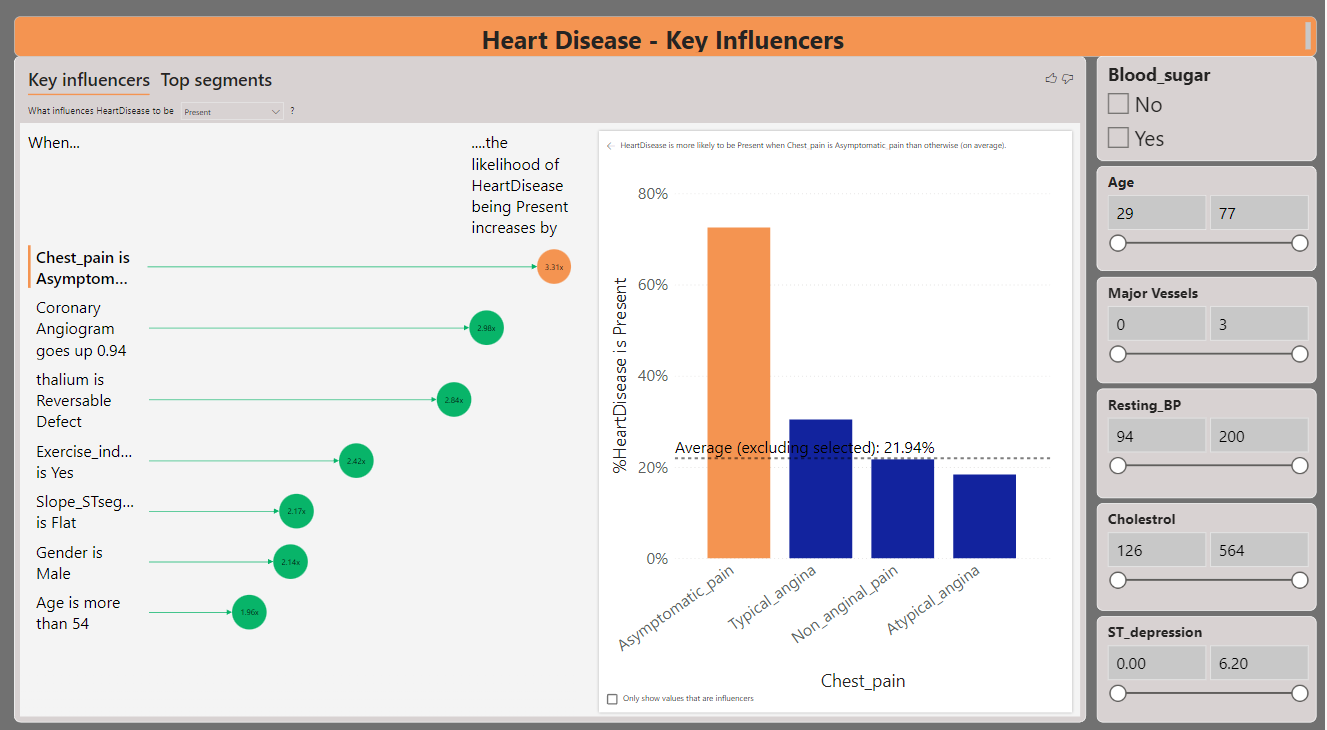

This screenshot's page, from the dashboard's own definition file:
{"tool":"powerbi","page":{"name":"Page 2","canvas":[2000,1100],"ordinal":0},"visuals":[{"type":"keyDriversVisual","fields":{"Target":["heart_disease_dataset.HeartDisease"],"ExplainBy":["heart_disease_dataset.Chest_pain","heart_disease_dataset.thalium","Sum(heart_disease_dataset.Coronary Angiogram)","heart_disease_dataset.Exercise_induces_angina","heart_disease_dataset.Slope_STsegment","heart_disease_dataset.Gender","Sum(heart_disease_dataset.Age)"]},"box":[28.1,86.6,1613.2,1002.6],"z":0},{"type":"slicer","fields":{"Values":["heart_disease_dataset.Age"]},"box":[1656.5,252.5,331.3,158.1],"z":1000},{"type":"slicer","fields":{"Values":["heart_disease_dataset.Coronary Angiogram"]},"box":[1656.5,418.3,331.3,160.2],"z":2000},{"type":"slicer","fields":{"Values":["heart_disease_dataset.Resting_BP"]},"box":[1656.5,586.4,331.3,164.6],"z":3000},{"type":"slicer","fields":{"Values":["heart_disease_dataset.Cholestrol"]},"box":[1656.5,758.7,331.3,162.4],"z":4000},{"type":"slicer","fields":{"Values":["heart_disease_dataset.ST_depression"]},"box":[1656.5,928.9,331.3,160.2],"z":5000},{"type":"textbox","box":[28.1,26,1959.6,60.6],"z":6000},{"type":"slicer","fields":{"Values":["heart_disease_dataset.Blood_sugar"]},"box":[1656.5,86.6,331.3,158.1],"z":7000}]}

Visuals, with their boxes in screenshot pixels (x1, y1, x2, y2), scaled from the page's 2000x1100 canvas onto the 1327x730 screenshot:
keyDriversVisual - heart_disease_dataset.HeartDisease x heart_disease_dataset.Chest_pain: <region>19, 57, 1089, 723</region>
slicer - heart_disease_dataset.Age: <region>1099, 168, 1319, 272</region>
slicer - heart_disease_dataset.Coronary Angiogram: <region>1099, 278, 1319, 384</region>
slicer - heart_disease_dataset.Resting_BP: <region>1099, 389, 1319, 498</region>
slicer - heart_disease_dataset.Cholestrol: <region>1099, 504, 1319, 611</region>
slicer - heart_disease_dataset.ST_depression: <region>1099, 616, 1319, 723</region>
textbox: <region>19, 17, 1319, 57</region>
slicer - heart_disease_dataset.Blood_sugar: <region>1099, 57, 1319, 162</region>
